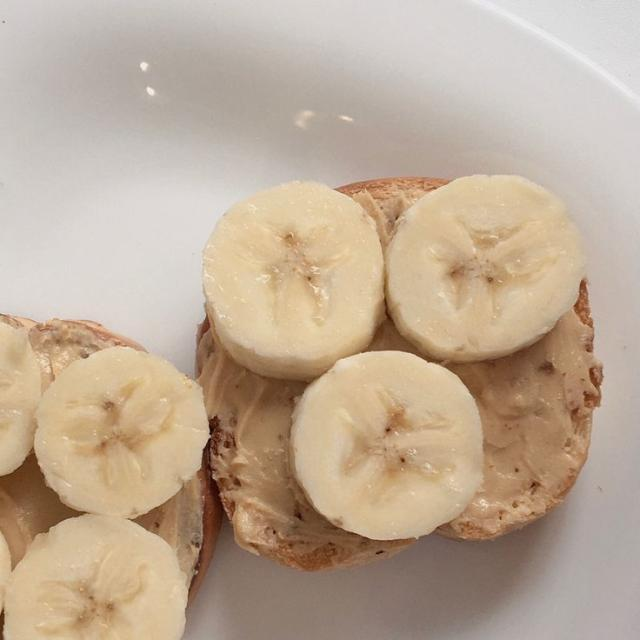sliced_bread: (436, 280, 602, 539), (139, 454, 221, 599), (0, 314, 143, 390), (0, 457, 74, 563), (338, 178, 444, 243), (213, 411, 241, 526)
